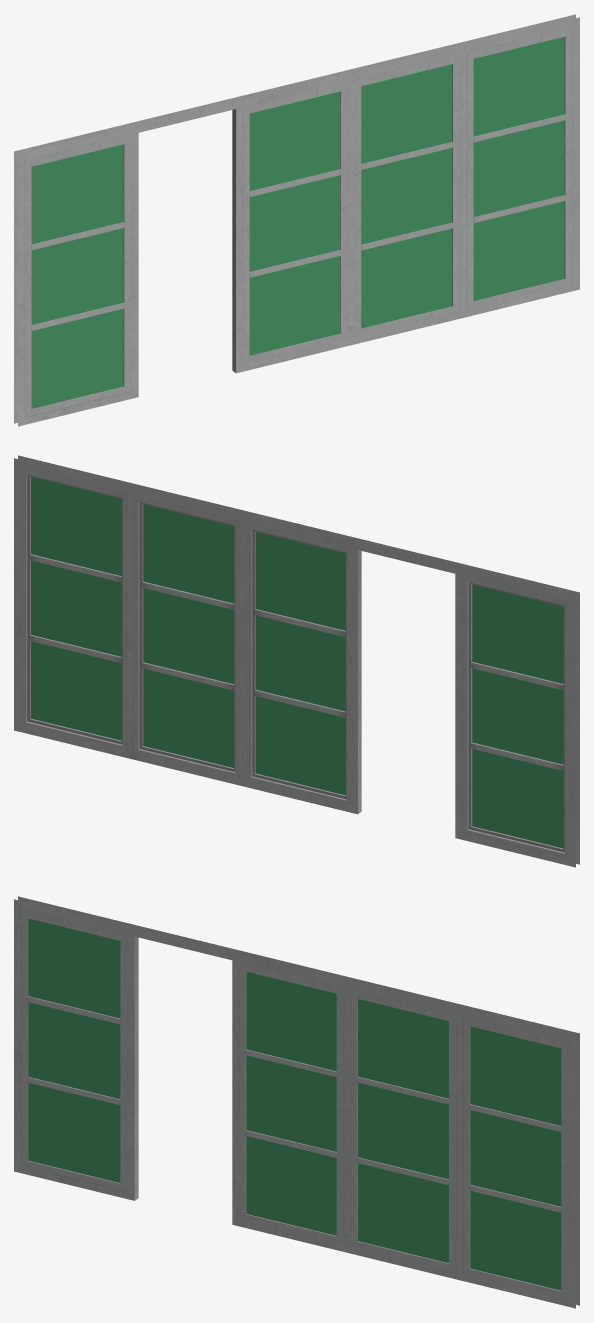
The model's file is WindowPanelA.fbx.
3 views of the same model, one above another, from view 1: azimuth 30°, elevation 25°; view 2: azimuth 150°, elevation 25°; view 3: azimuth 330°, elevation 25° (orthographic).
Parts seen in each view (by area): view 1: glass, frame; view 2: glass, frame; view 3: glass, frame.
Part boxes in pixels (x1=…): glass: x1=31, y1=37, x2=564, y2=408; frame: x1=14, y1=14, x2=579, y2=426; glass: x1=31, y1=477, x2=563, y2=848; frame: x1=14, y1=455, x2=579, y2=867; glass: x1=28, y1=918, x2=561, y2=1290; frame: x1=14, y1=896, x2=579, y2=1308.
Bounding box in the file's own units: 589 × 272 × 7.18.
2 materials, 1 textured.
